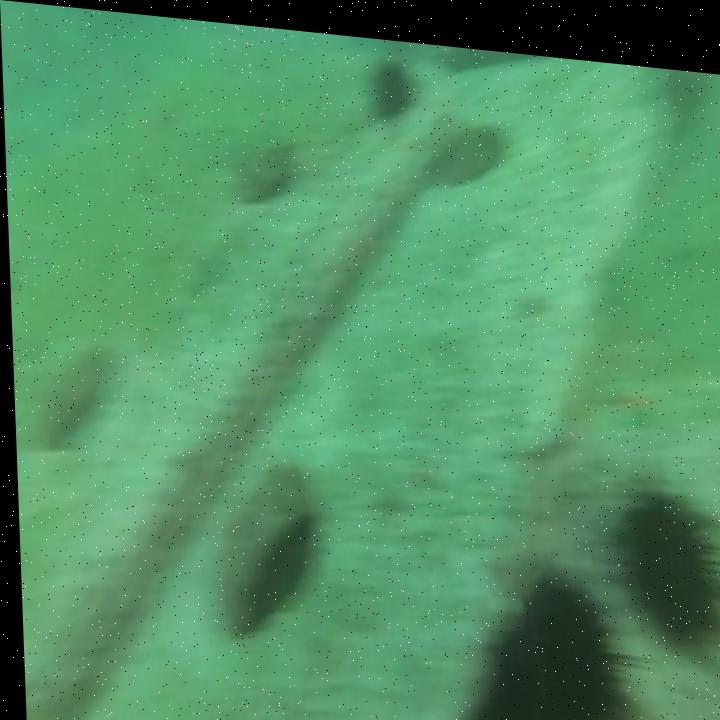echinus: (483, 524, 650, 720), (583, 440, 720, 667)
